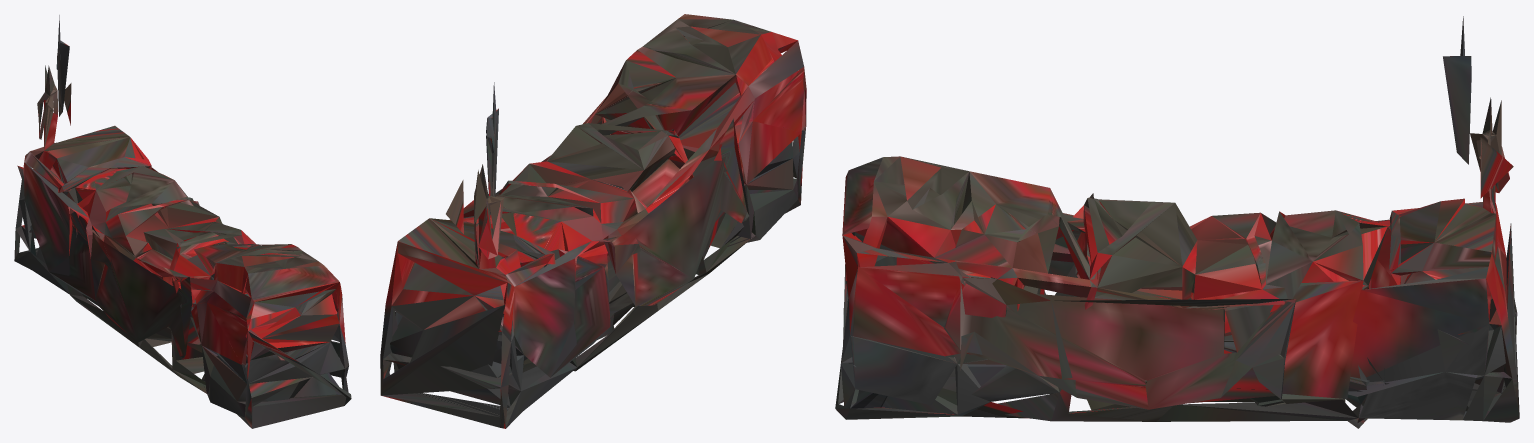
3 views of the same model, side by side, from view 1: azimuth 30°, elevation 25°; view 2: azimuth 150°, elevation 25°; view 3: azimuth 270°, elevation 25° (orthographic). The views are drawn at different scales.
Visible parts, largest first — view 1: k05; view 2: k05; view 3: k05.
Boxes of the visible parts, <box> form: k05: <box>14,15,351,428</box>; k05: <box>380,14,806,428</box>; k05: <box>835,16,1519,428</box>.
Size of the model in its own units: 3.1 by 5.96 by 10.15.
1 material, 1 textured.
